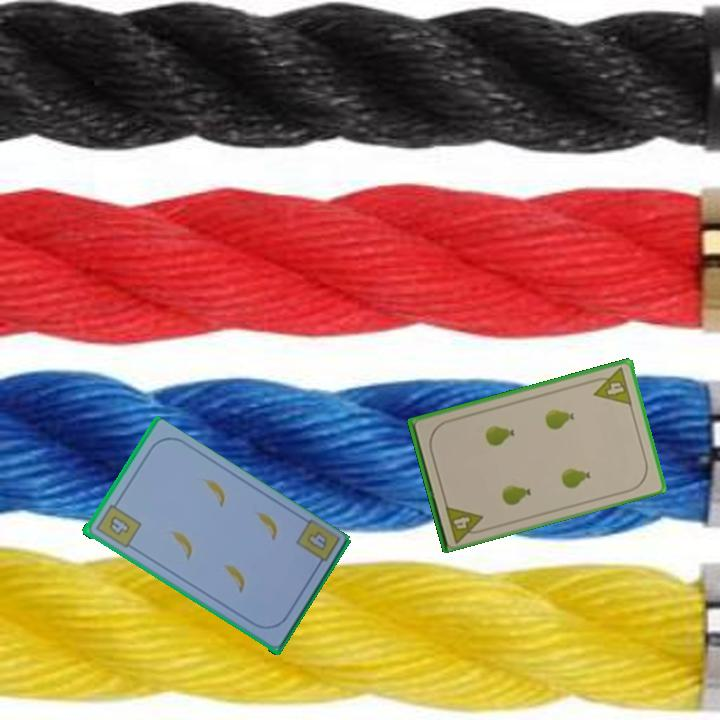4b: (291, 517, 342, 573), (91, 497, 143, 551)
4p: (587, 364, 635, 408), (442, 501, 488, 545)
